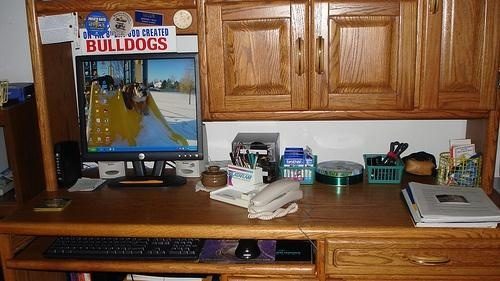tvmonitor: (74, 55, 205, 188)
